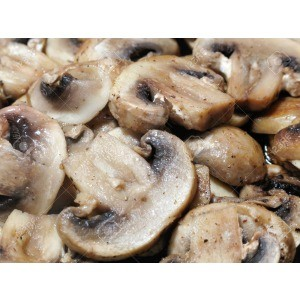mushroom_brain food: (66, 93, 211, 201)
